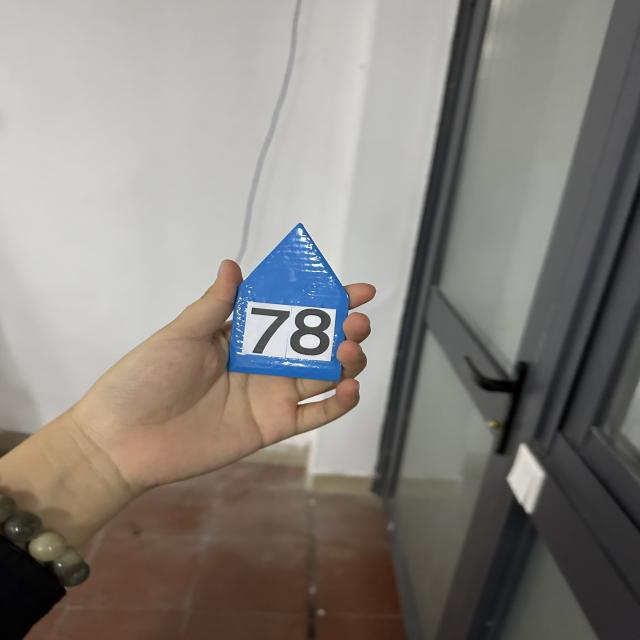board: (227, 222, 352, 383)
